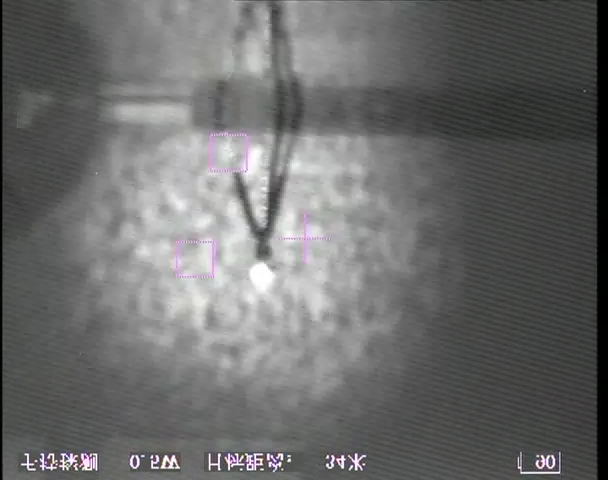my: (248, 260, 274, 291)
